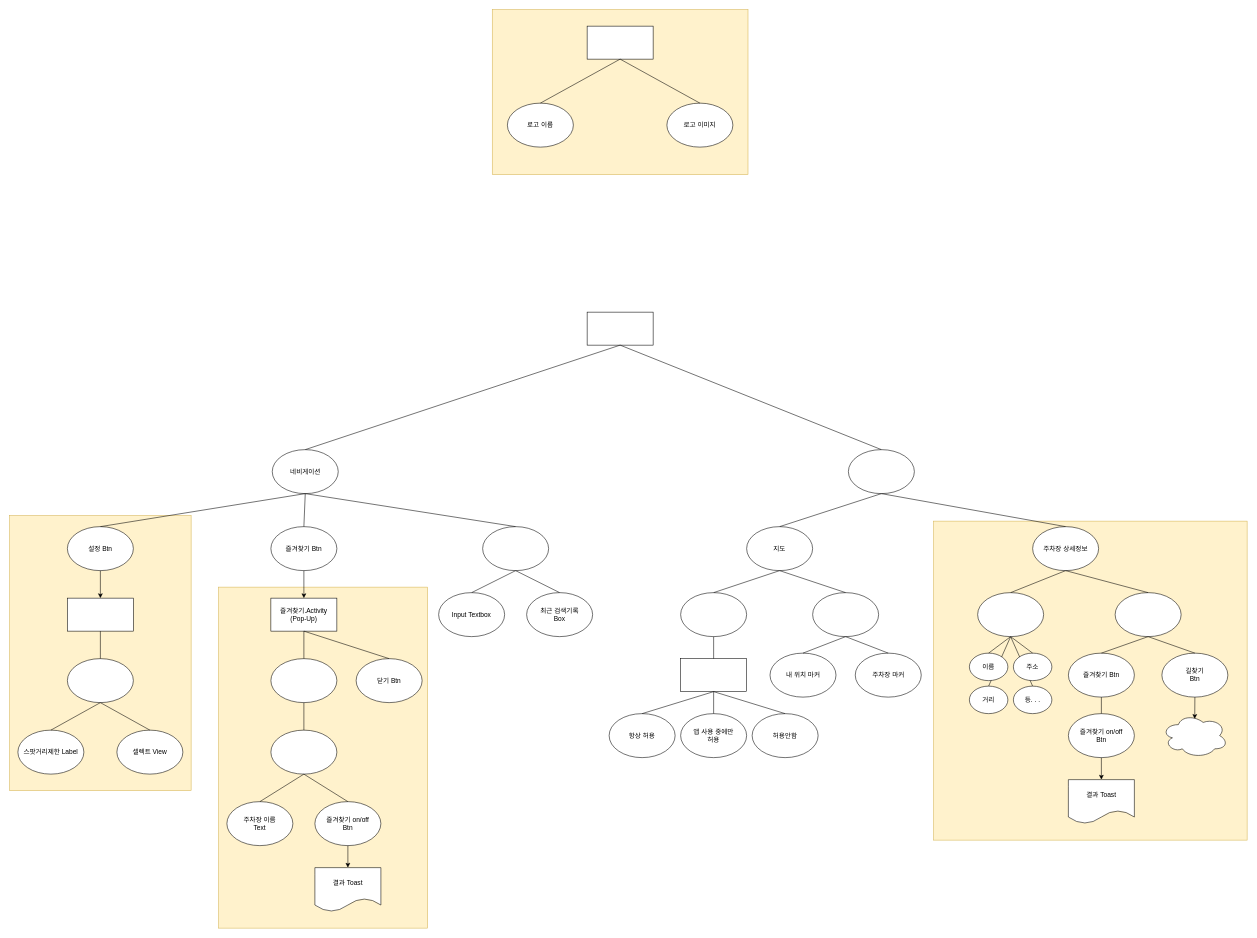
The diagram is 1257 pixels wide and 938 high, and some of its shapes have lost their labels. Each missing label, with the centre of its shape:
MainActivity.java: point (620, 328)
Setiing.Activity: point (100, 614)
검색 컴포넌트: point (515, 548)
내 위치 표시 Btn: point (713, 614)
다른 웹으로 위치정보 전송: point (1194, 735)
로딩 Activity: point (620, 42)
메인: point (881, 471)
버튼 컴포넌트: point (1148, 614)
스팟거리제한 컴포넌트: point (100, 680)
주차장 상세정보 컴포넌트: point (1010, 614)
즐겨찾기 ListView: point (303, 680)
즐겨찾기 컴포넌트: point (303, 752)
지도 맵: point (845, 614)
퍼미션 엑세스 Activity: point (713, 675)
